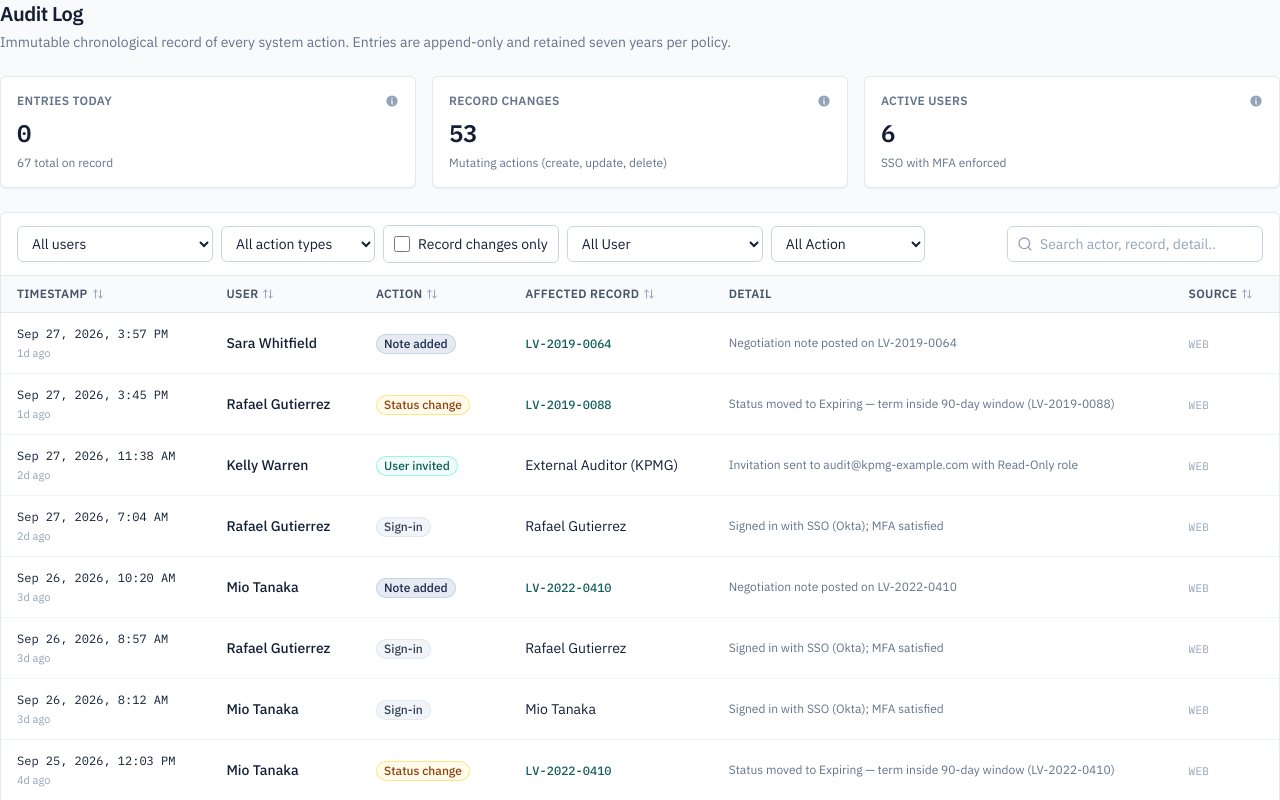
it: AuditLogView › filters by user via the user select
Select "Kelly Warren" in the dropdown named "Filter by user" at (115, 244), box [17, 226, 213, 262]
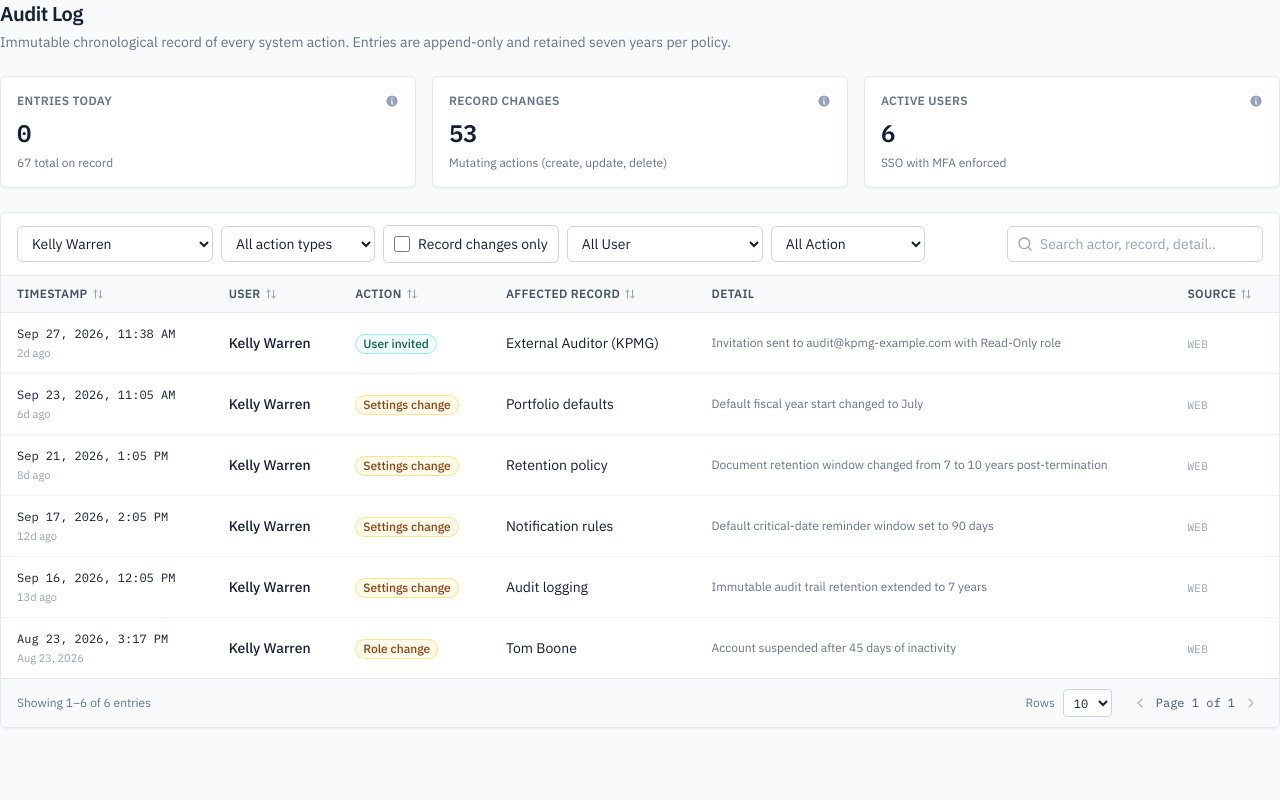
Check: the text "Sara Whitfield" is gone
